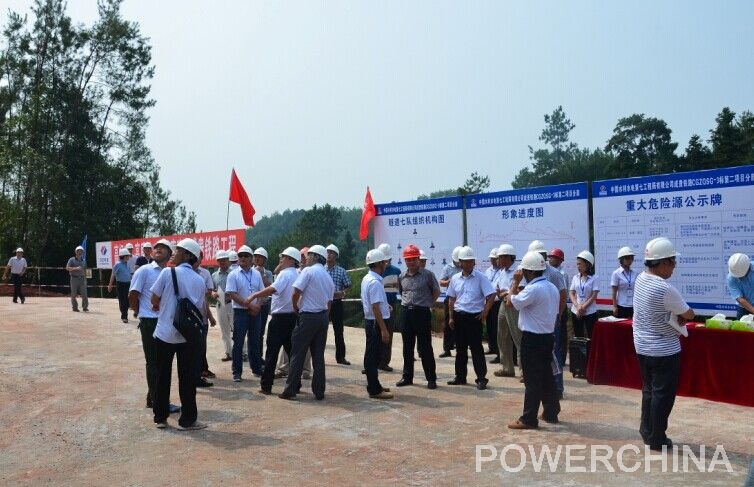red: (401, 245, 422, 271), (545, 248, 565, 267)
white: (643, 238, 679, 277), (171, 237, 201, 267), (518, 252, 547, 279), (728, 252, 751, 281), (364, 249, 388, 275), (496, 242, 519, 268), (278, 245, 300, 269), (457, 246, 477, 272), (152, 237, 172, 263), (305, 244, 327, 266), (614, 246, 635, 268), (235, 243, 254, 266), (574, 252, 595, 272), (252, 246, 270, 268), (378, 241, 394, 265), (324, 244, 340, 265), (214, 248, 230, 269), (417, 249, 428, 269), (140, 241, 153, 256), (117, 248, 130, 263), (124, 241, 134, 256), (74, 245, 84, 257), (14, 246, 24, 258)
